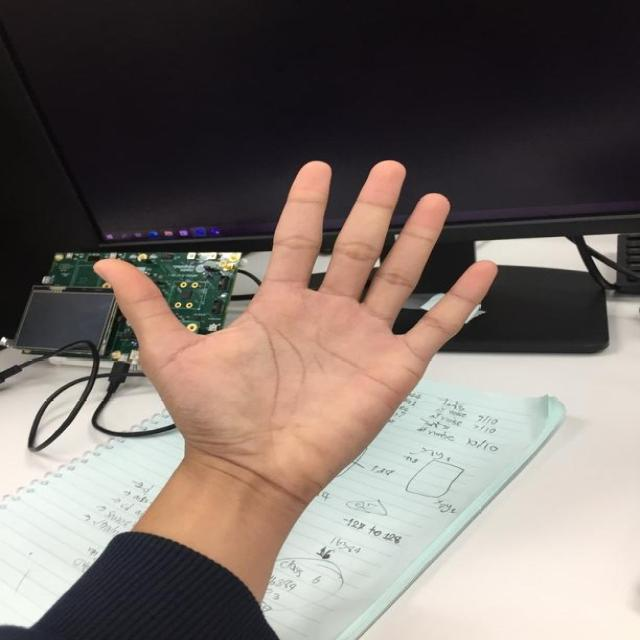hand: (96, 160, 503, 490)
